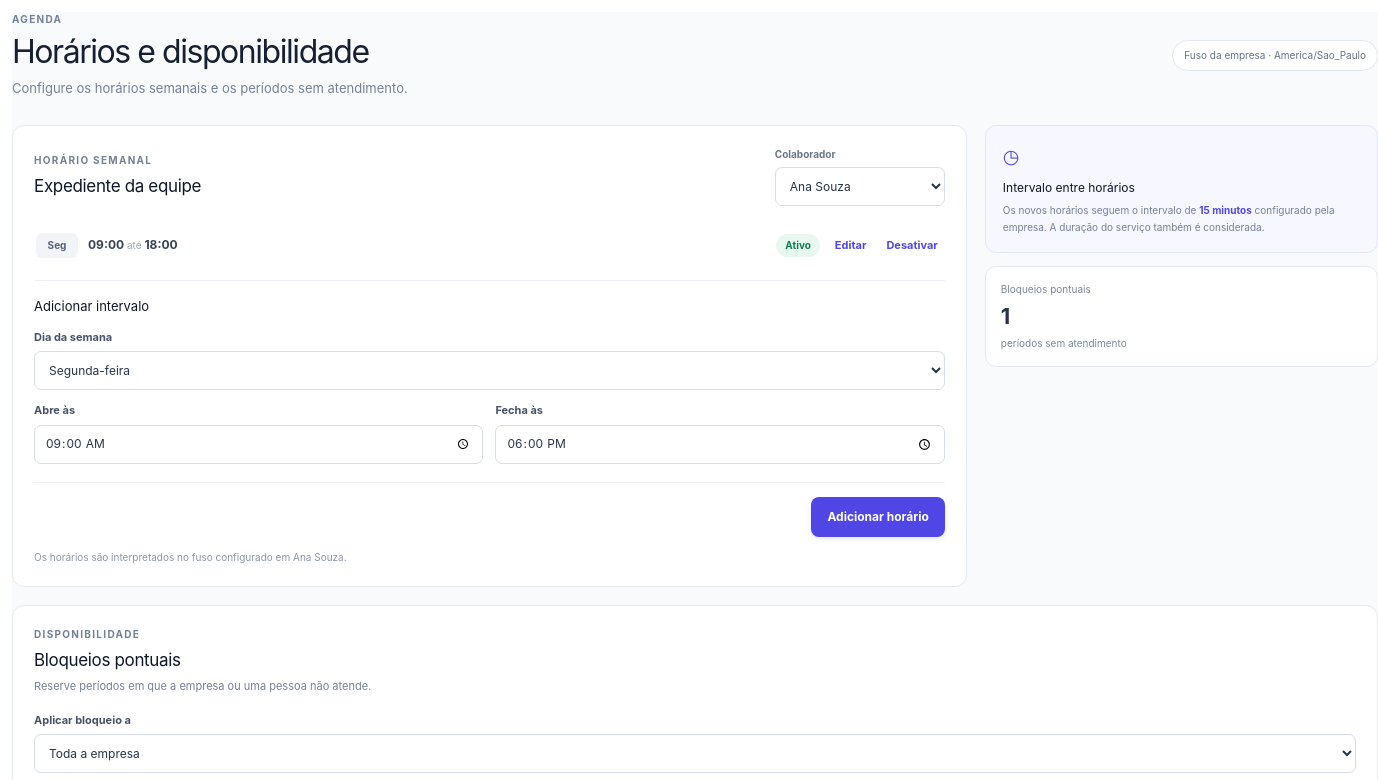
Test case: AvailabilityPage › displays a rejected overlapping schedule clearly
Replace the text in the time field labelled "Abre às" with "18:00" at (259, 444), box top-left (34, 425), bottom-right (483, 464)
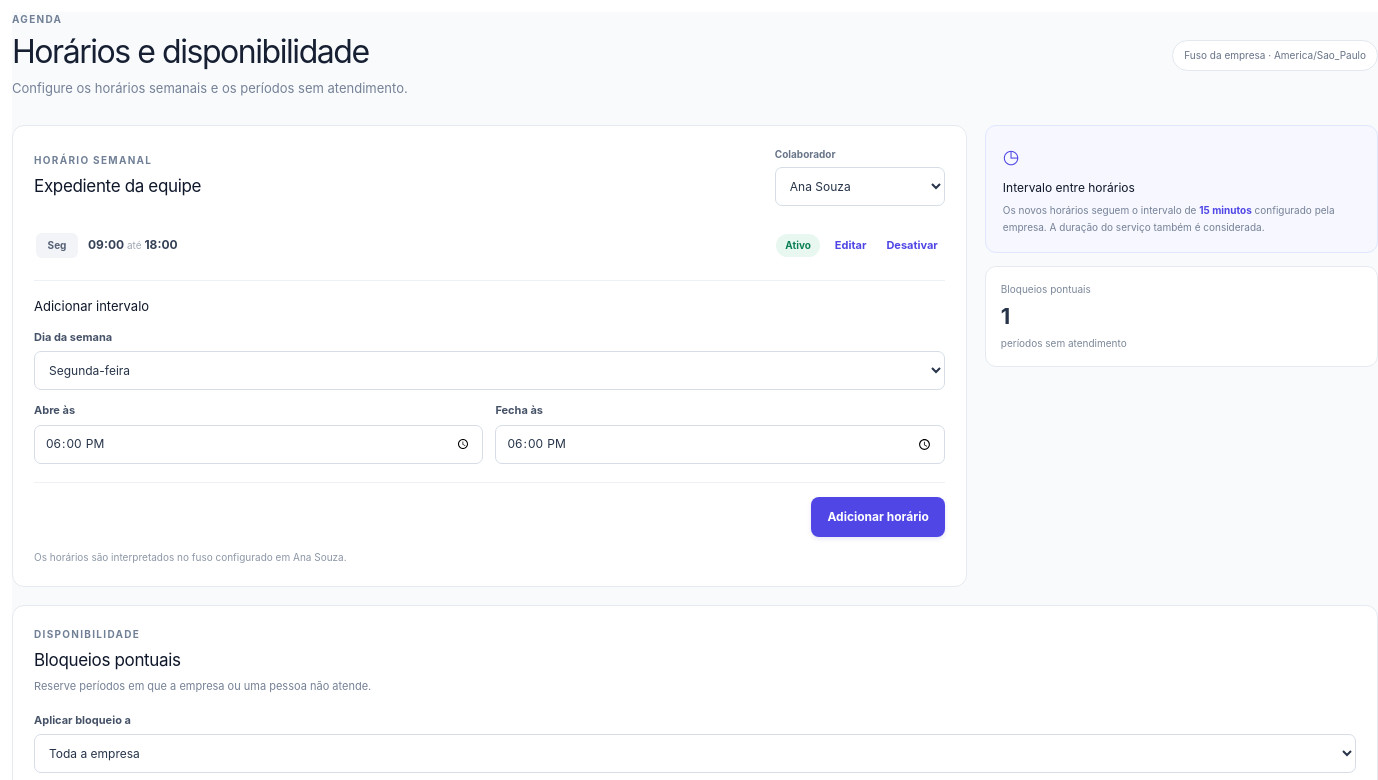
Replace the text in the time field labelled "Fecha às" with "09:00" at (720, 444), box top-left (495, 425), bottom-right (945, 464)
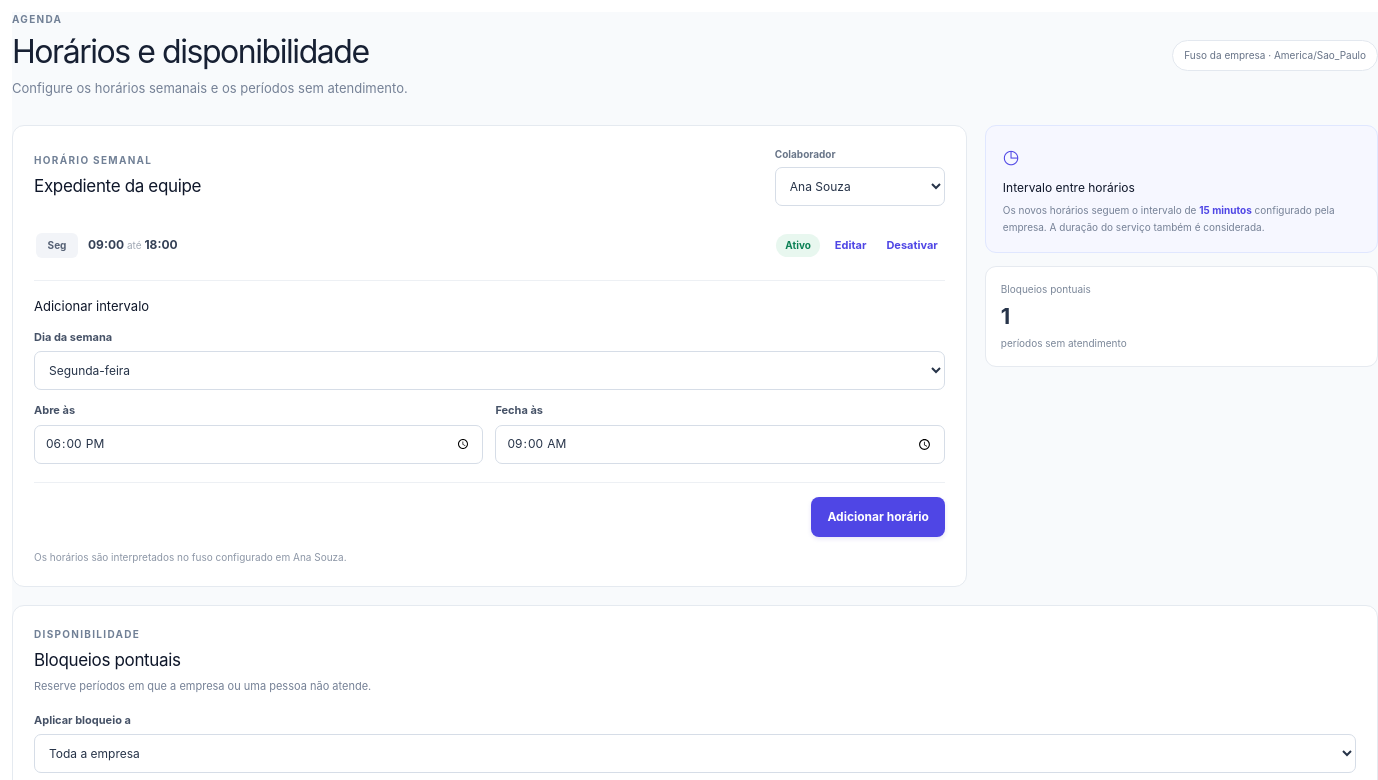
Click the button "Adicionar horário" at (878, 517), box top-left (811, 497), bottom-right (945, 537)
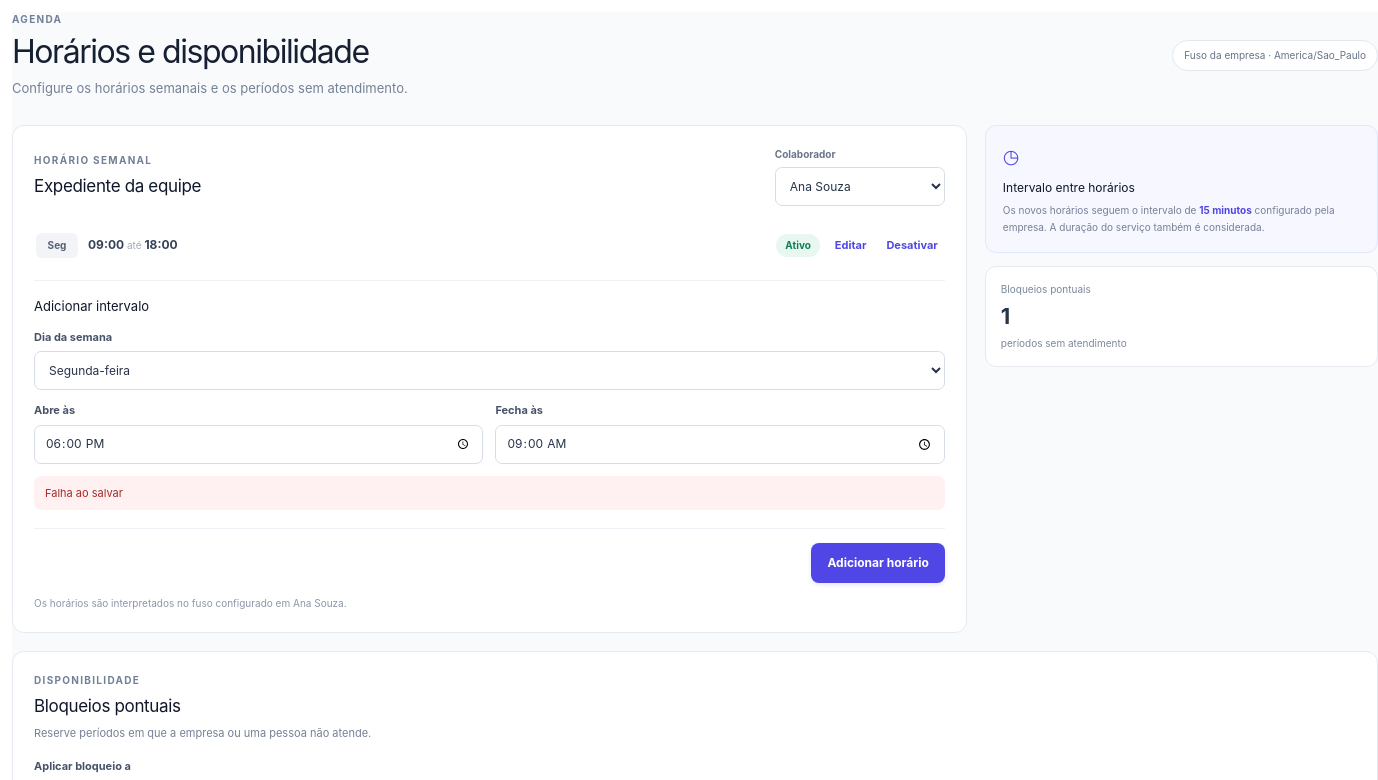
Now the message reads "Falha ao salvar", box top-left (45, 486), bottom-right (123, 500)
